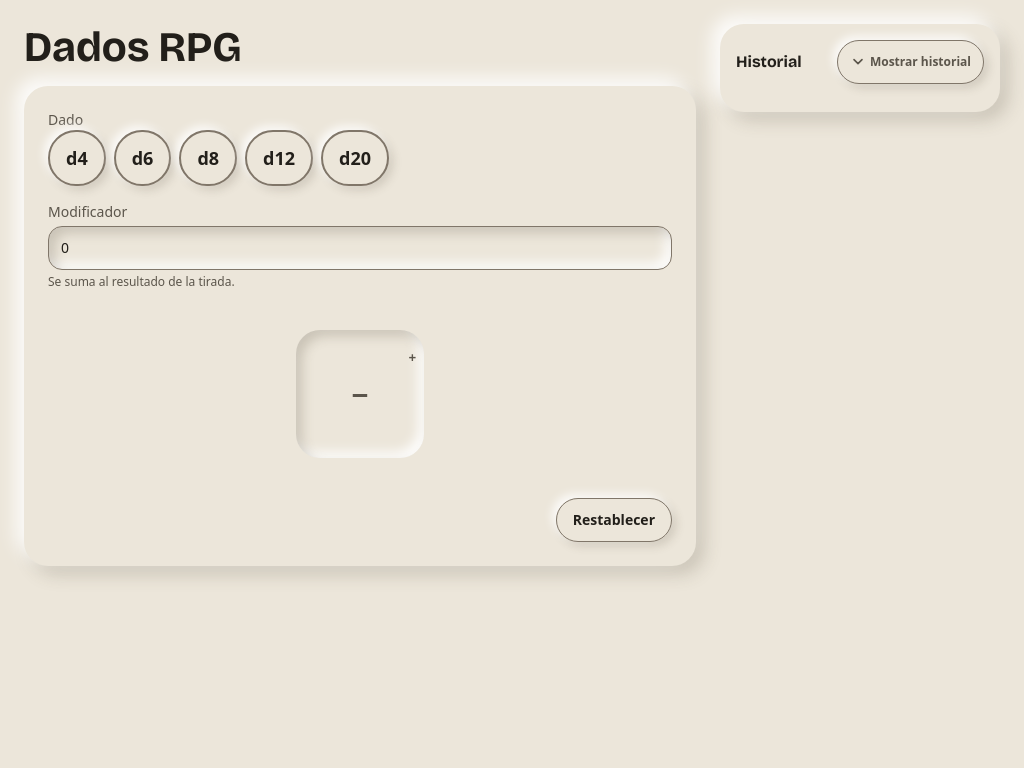
DicePage — dados › muestra un error RPG cuando la estrategia lanza
Click the button "d6": [143, 158] box [114,130,171,186]
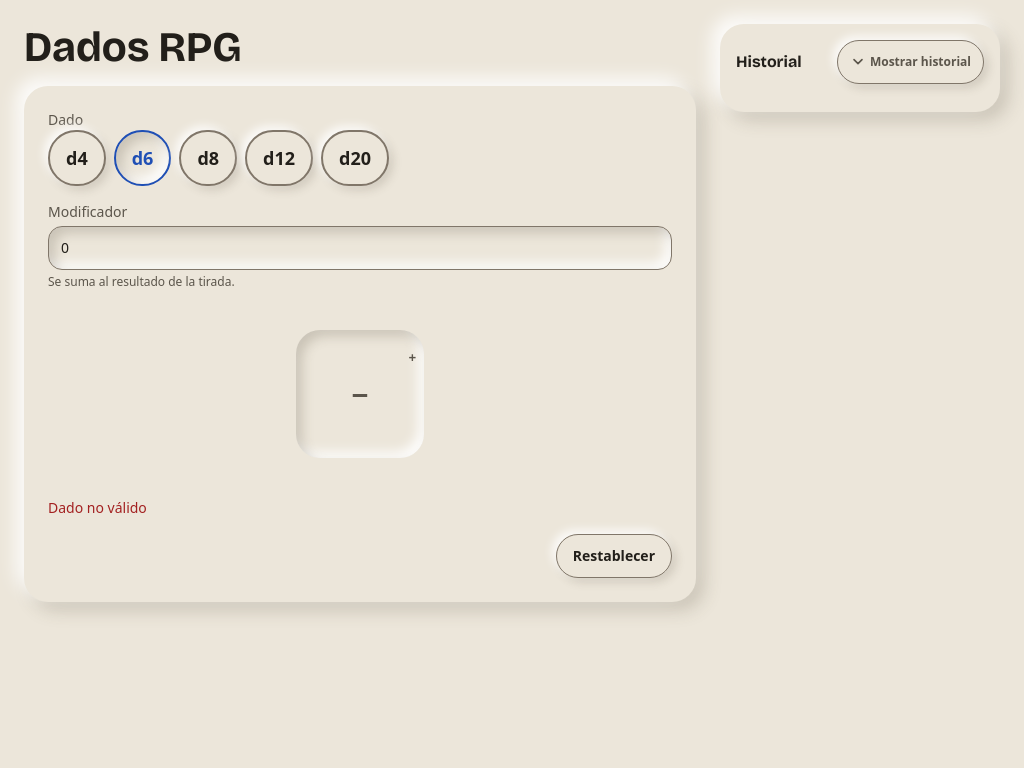
Expected: the message reads "Dado no válido", [48,498,147,517]
